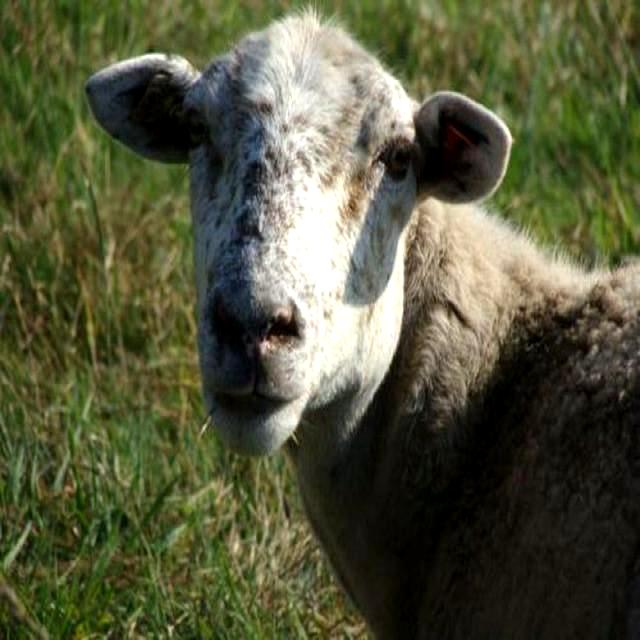sheep: (84, 16, 640, 640)
